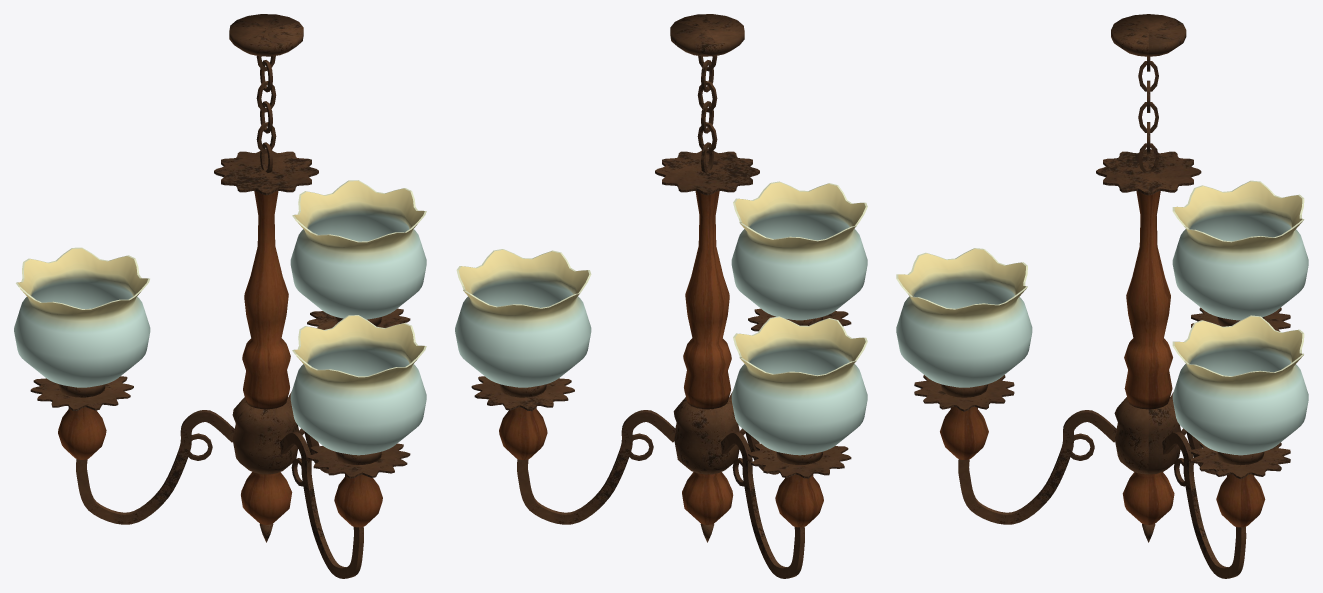
The model's file is lamp_bronze_3_web.glb.
3 renders of one model, left to right at view 1: azimuth 30°, elevation 25°; view 2: azimuth 150°, elevation 25°; view 3: azimuth 270°, elevation 25°, orthographic.
Visible parts, largest first — view 1: Chrome_Bronze, Glass_Shade_2.002, Glass_Shade_3.002, Glass_Shade_1.002, LampBronze3_Body; view 2: Chrome_Bronze, Glass_Shade_2.002, Glass_Shade_3.002, Glass_Shade_1.002, LampBronze3_Body; view 3: Chrome_Bronze, Glass_Shade_3.002, Glass_Shade_1.002, Glass_Shade_2.002, LampBronze3_Body.
Boxes of the visible parts, bbox=[...] form: Chrome_Bronze: bbox=[30, 14, 410, 578]; Glass_Shade_2.002: bbox=[14, 247, 150, 387]; Glass_Shade_3.002: bbox=[290, 315, 426, 455]; Glass_Shade_1.002: bbox=[290, 180, 426, 319]; LampBronze3_Body: bbox=[58, 191, 382, 527]; Chrome_Bronze: bbox=[471, 14, 851, 578]; Glass_Shade_2.002: bbox=[731, 316, 867, 455]; Glass_Shade_3.002: bbox=[731, 181, 867, 320]; Glass_Shade_1.002: bbox=[455, 249, 591, 387]; LampBronze3_Body: bbox=[499, 190, 823, 527]; Chrome_Bronze: bbox=[914, 14, 1290, 578]; Glass_Shade_3.002: bbox=[896, 248, 1032, 387]; Glass_Shade_1.002: bbox=[1172, 315, 1308, 455]; Glass_Shade_2.002: bbox=[1172, 180, 1308, 320]; LampBronze3_Body: bbox=[940, 191, 1265, 527].
Bounding box in the file's own units: 0.6677 × 0.83 × 0.6047.
3 materials, 3 textured.
